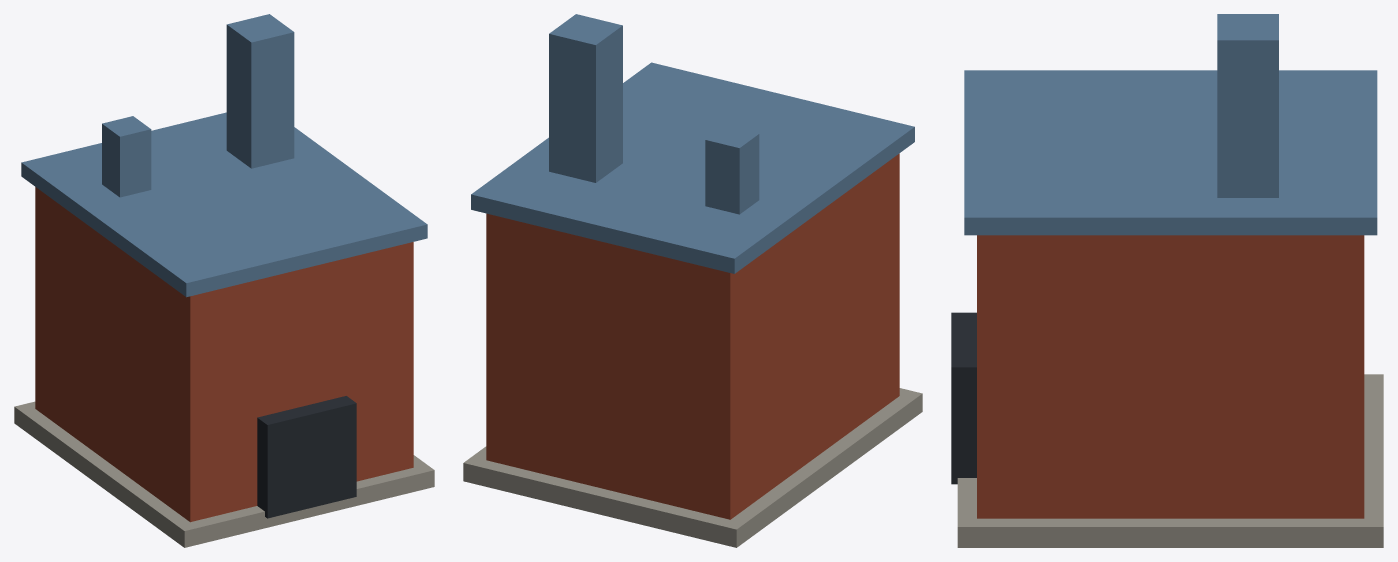
File: bld_industrial_a05_lod2.glb
3 views of the same model, side by side, from view 1: azimuth 30°, elevation 25°; view 2: azimuth 150°, elevation 25°; view 3: azimuth 270°, elevation 25° (orthographic). The views are drawn at different scales.
Parts seen in each view (by area): view 1: body; view 2: body; view 3: body.
Boxes of the visible parts, x1=… form: body: x1=14, y1=14, x2=434, y2=547; body: x1=463, y1=14, x2=922, y2=547; body: x1=951, y1=14, x2=1383, y2=547.
Bounding box in the file's own units: 5.6 × 8.3 × 6.7.
